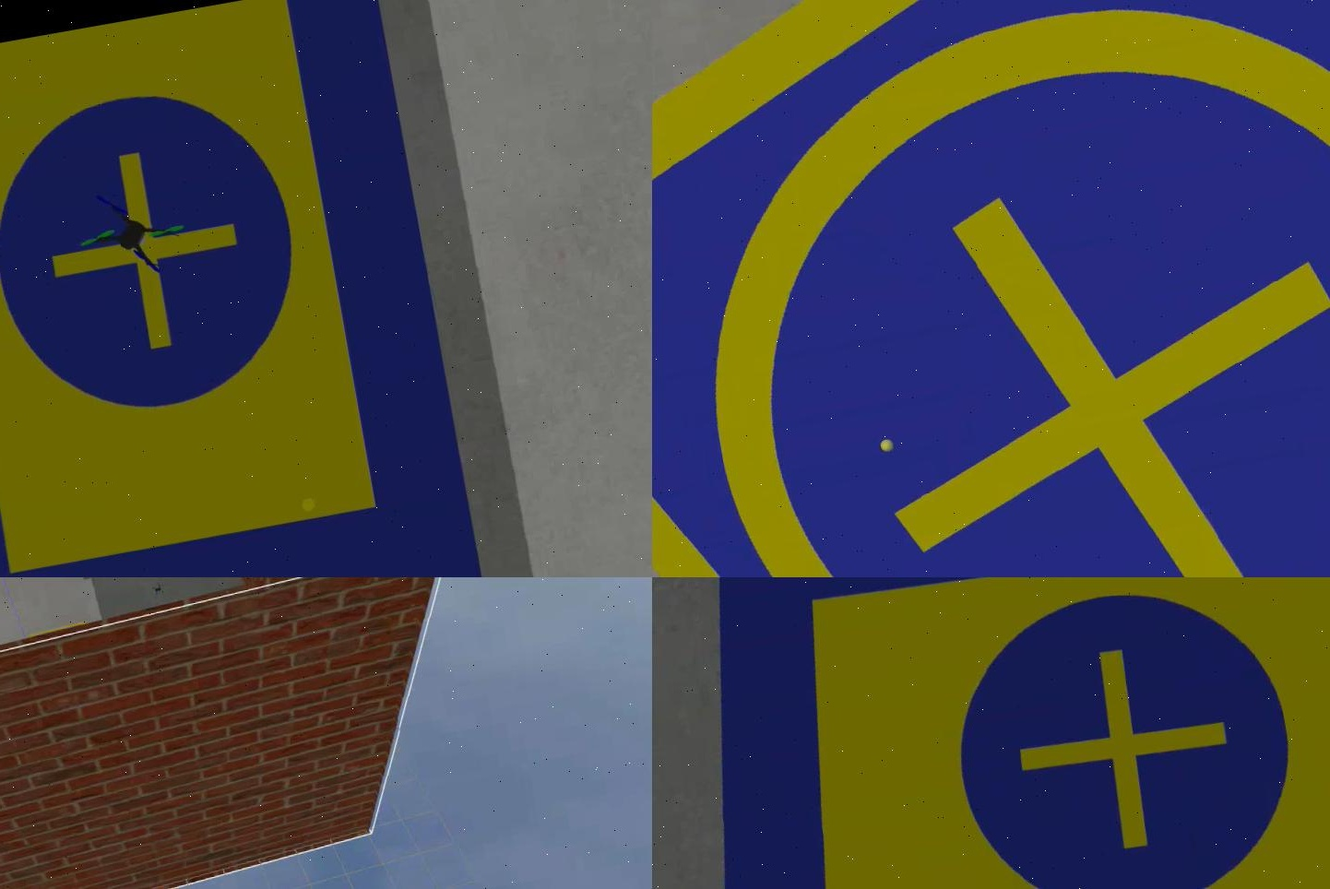large_base: (0, 1, 484, 578), (651, 578, 1328, 889)
small_base: (651, 1, 1328, 578)
